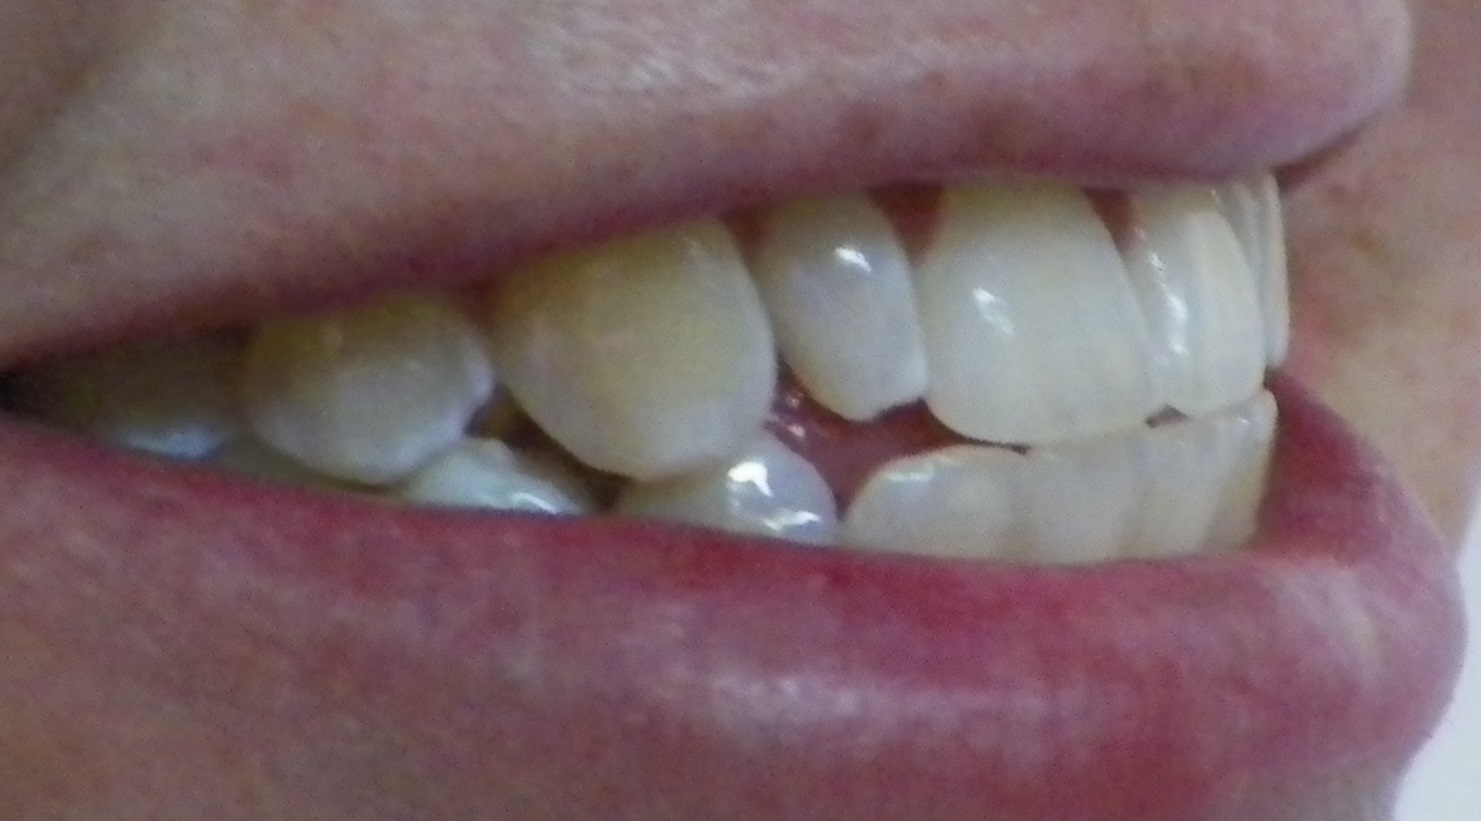boca: (57, 165, 1311, 546)
